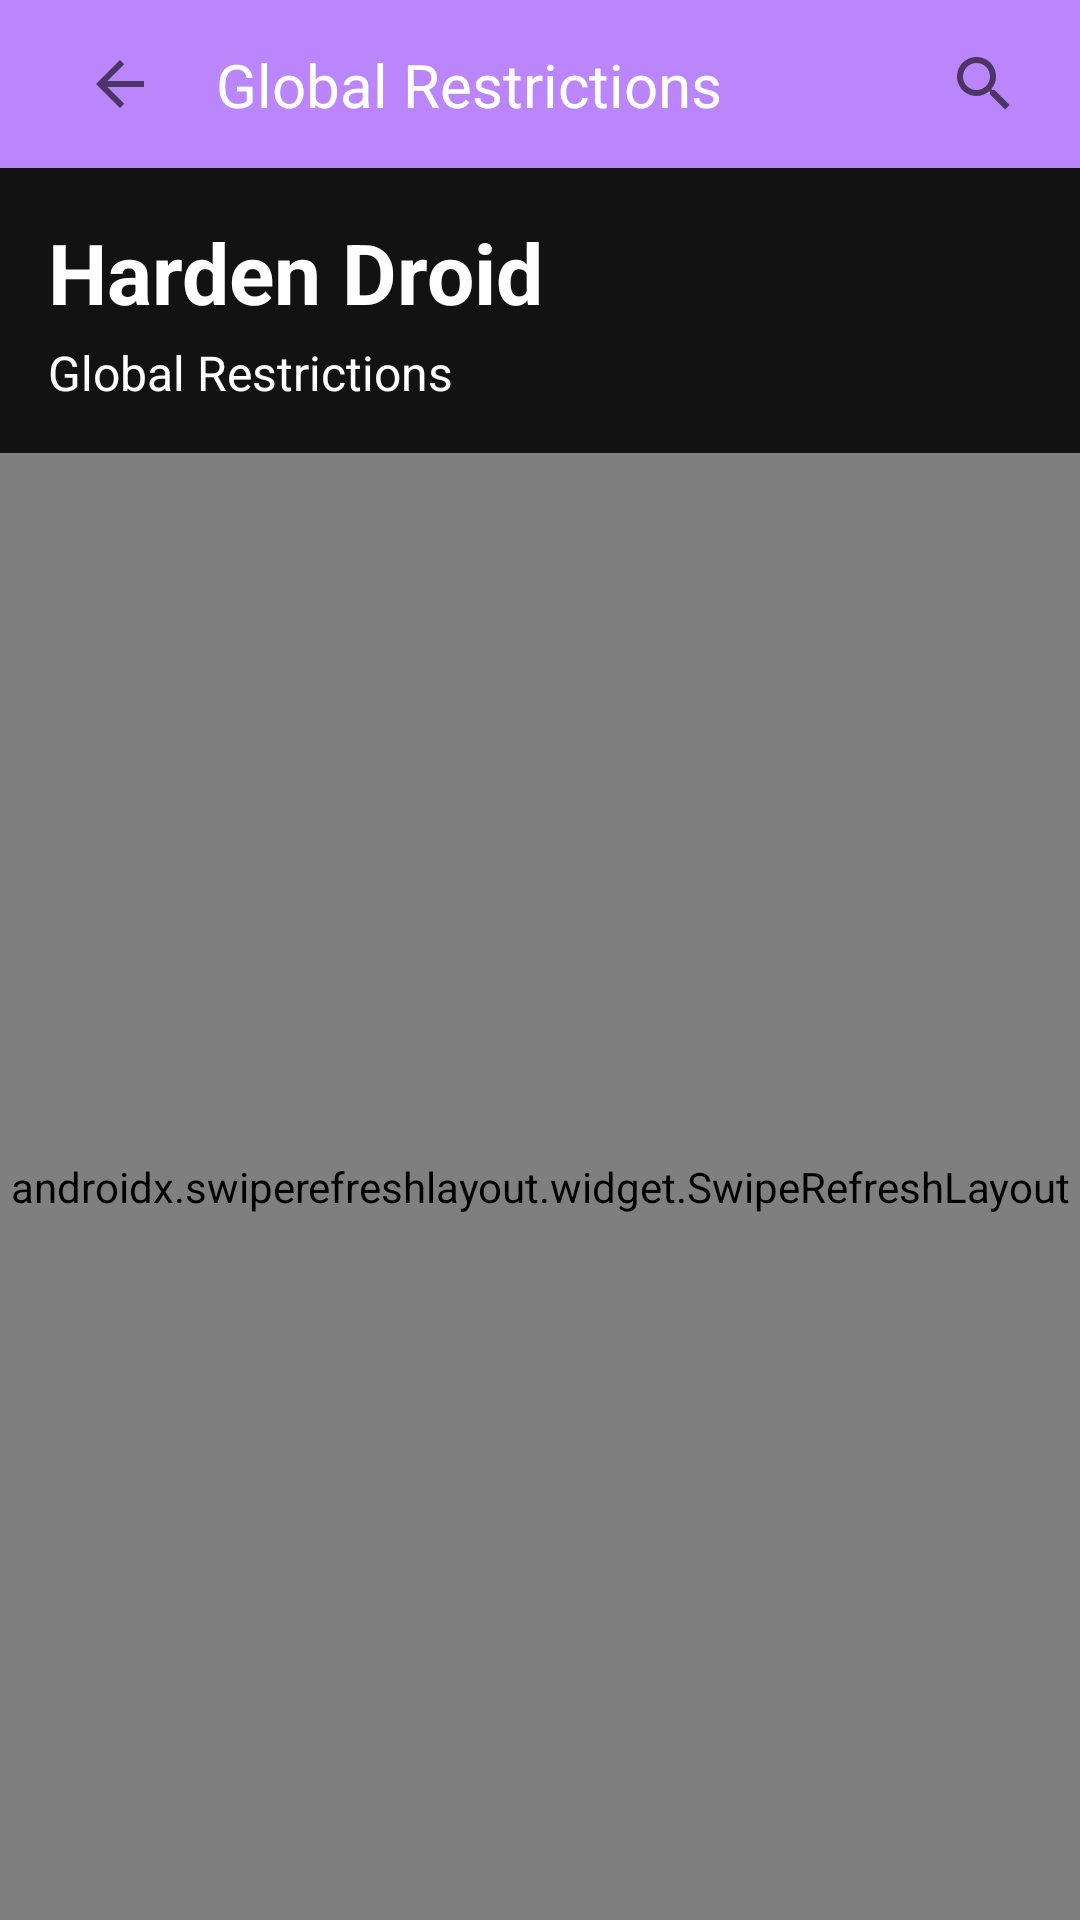

Screen size 1080px x 1920px. Icon name, then its box in pixels as [x1,y1,x2,y2]:
Back: [96,60,144,108]
Search: [957,57,1010,110]
